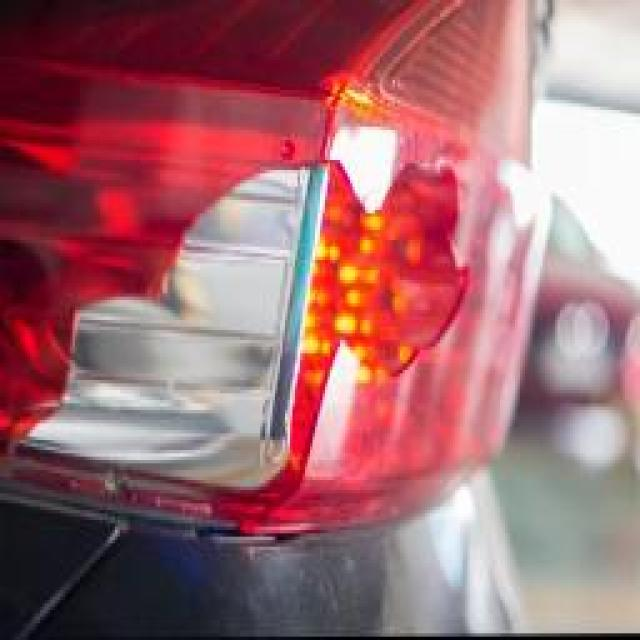Light: (25, 133, 485, 504)
